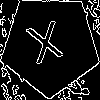X: (25, 20, 69, 74)
